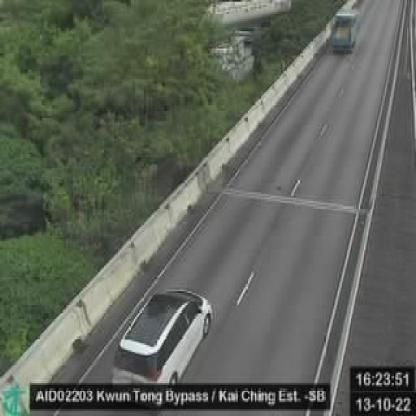Car: (116, 290, 211, 381)
Truck: (330, 5, 360, 55)
